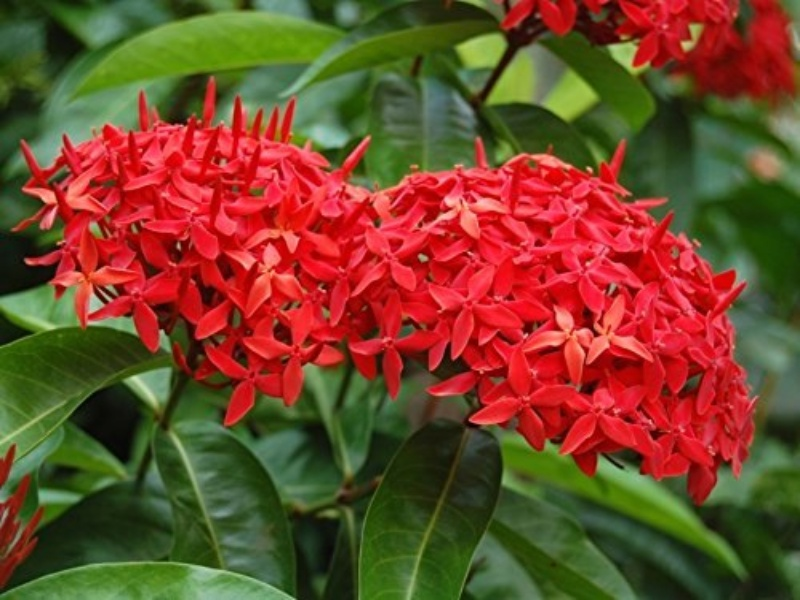Ixora: (13, 76, 779, 537)
